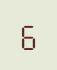six: (19, 20, 36, 50)
